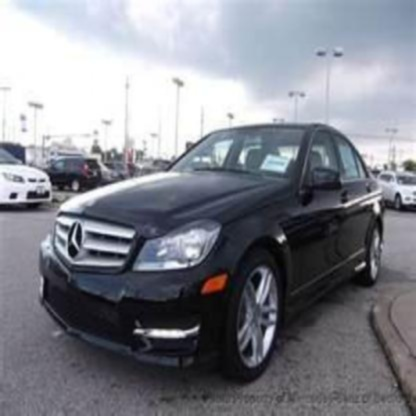Vehicle: (39, 123, 387, 386)
